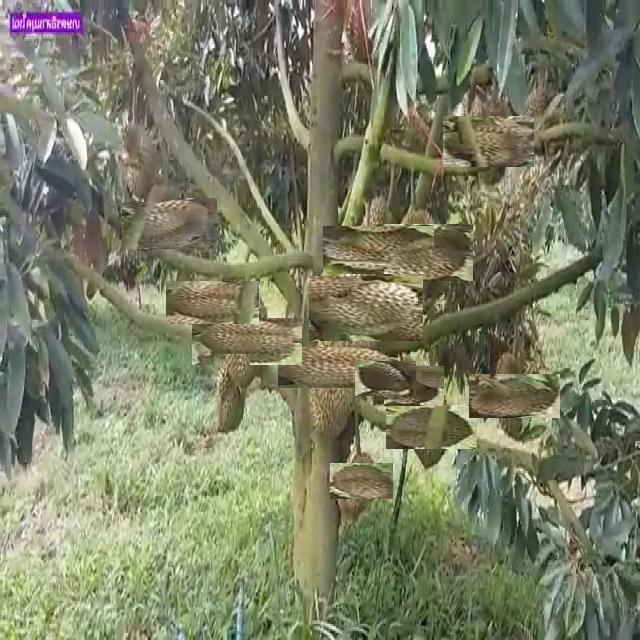durian: (320, 263, 410, 353), (297, 327, 379, 408), (207, 301, 287, 381), (339, 210, 419, 290), (386, 214, 463, 291), (132, 187, 206, 260), (452, 106, 524, 177), (178, 268, 246, 337), (398, 393, 466, 461), (481, 362, 549, 430), (112, 116, 162, 202), (214, 354, 250, 440), (389, 361, 439, 412), (337, 456, 387, 506), (361, 354, 409, 403)
